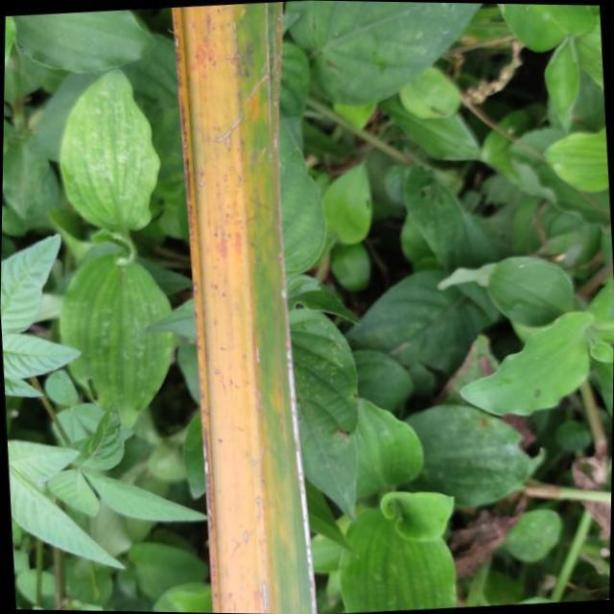Megnesium: (166, 0, 317, 614)
